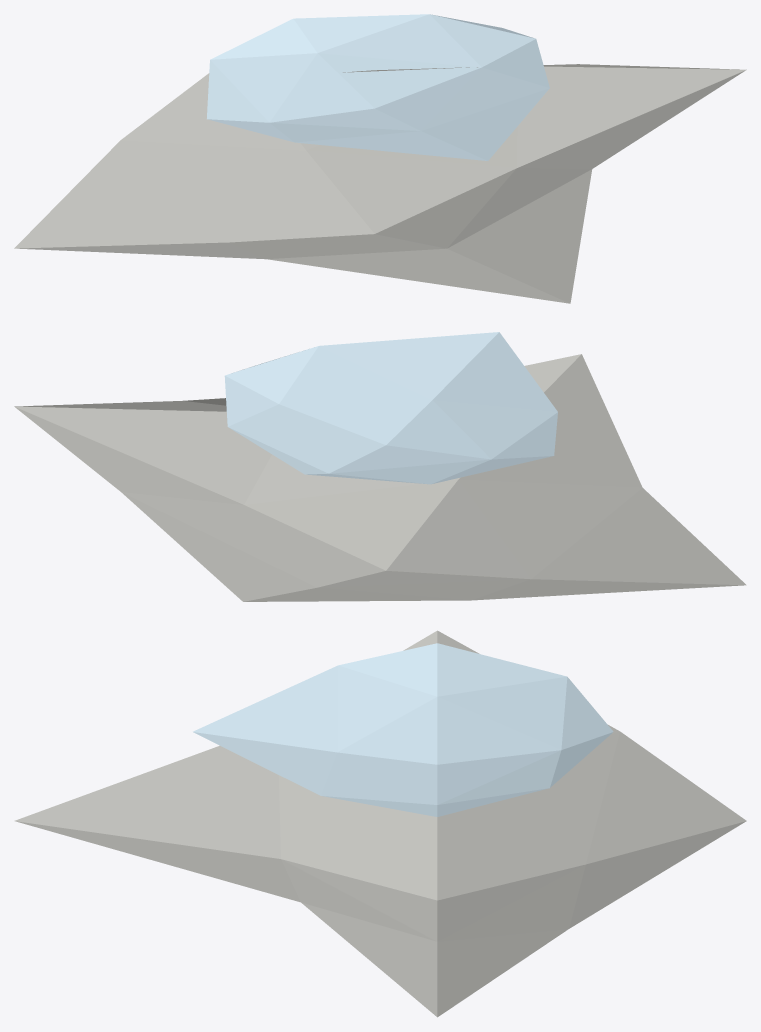
File: puddle_stone_v44.glb
The picture shows the model from 3 angles, top to bottom: view 1: azimuth 30°, elevation 25°; view 2: azimuth 150°, elevation 25°; view 3: azimuth 270°, elevation 25°; orthographic projection. The views are drawn at different scales.
Visible parts, largest first — view 1: lod0; view 2: lod0; view 3: lod0.
Part boxes in pixels (x1,y1,x2,y2): lod0: (14,14,746,303); lod0: (14,332,746,601); lod0: (14,630,746,1017).
Size of what is drawn, in the model's own units: 0.6521 by 0.1664 by 0.5219.
